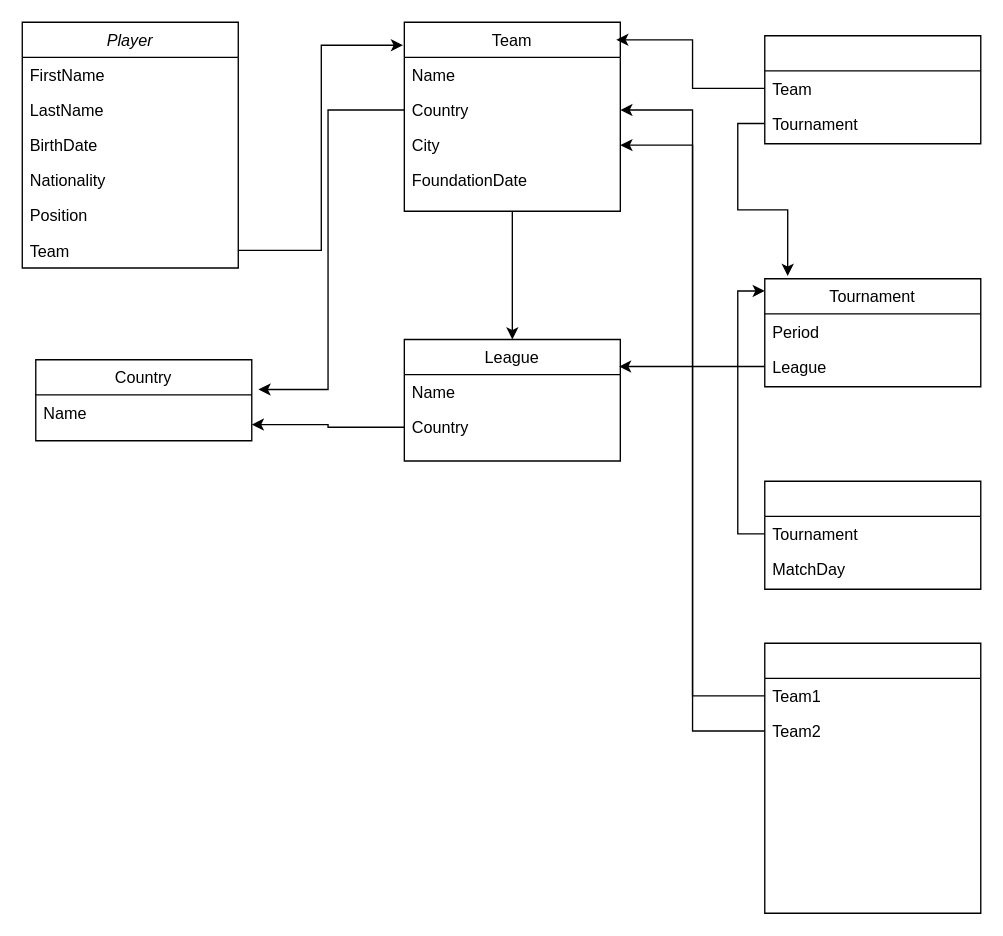
Some shapes in this 1003 by 936 pixel diagram are drawn without their labels. The shapes that lost their labels are listed below. From the top down, each one's box as (x1, y1, x2, y2) in pixels, then its label:
(763, 34, 981, 144): Tournament_Teams
(763, 480, 981, 589): Fixture
(763, 642, 981, 913): Match
